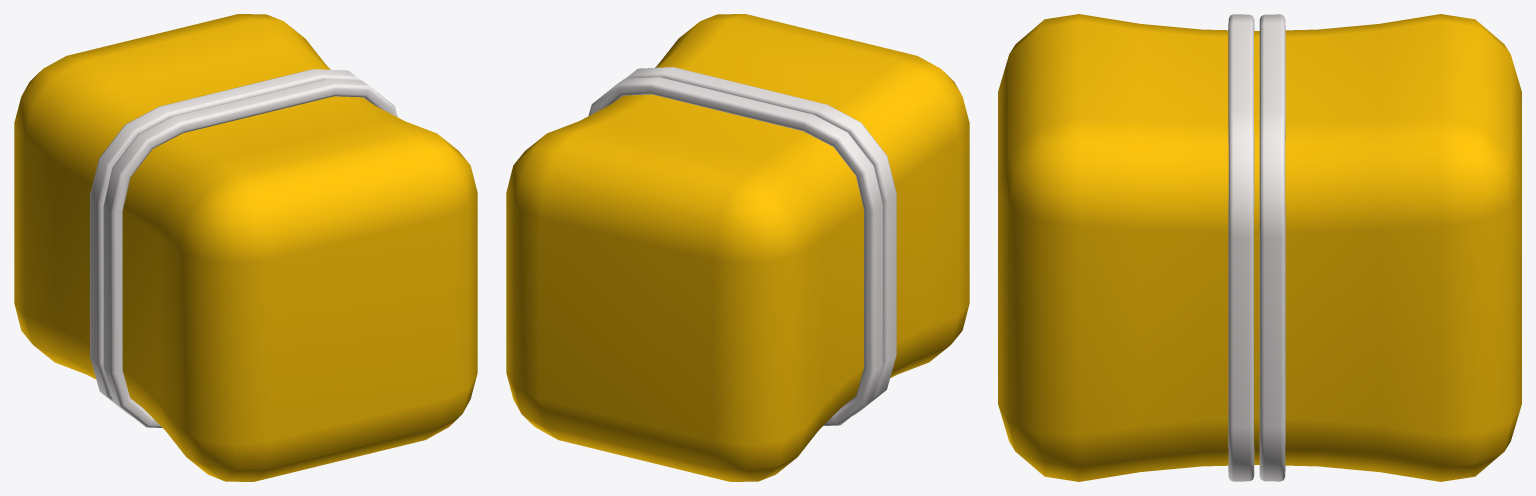
File: Farm_4_Haystack_1.glb
3 renders of one model, left to right at view 1: azimuth 30°, elevation 25°; view 2: azimuth 150°, elevation 25°; view 3: azimuth 270°, elevation 25°, orthographic. The views are drawn at different scales.
Visible parts, largest first — view 1: Farm_4_Haystack_1; view 2: Farm_4_Haystack_1; view 3: Farm_4_Haystack_1.
Part boxes in pixels (x1,y1,x2,y2): Farm_4_Haystack_1: (14, 14, 477, 481); Farm_4_Haystack_1: (506, 14, 969, 481); Farm_4_Haystack_1: (998, 14, 1521, 481).
Size of the model in its own units: 1.1 by 1.1 by 1.44.
Materials: 1 (1 with a texture image).
